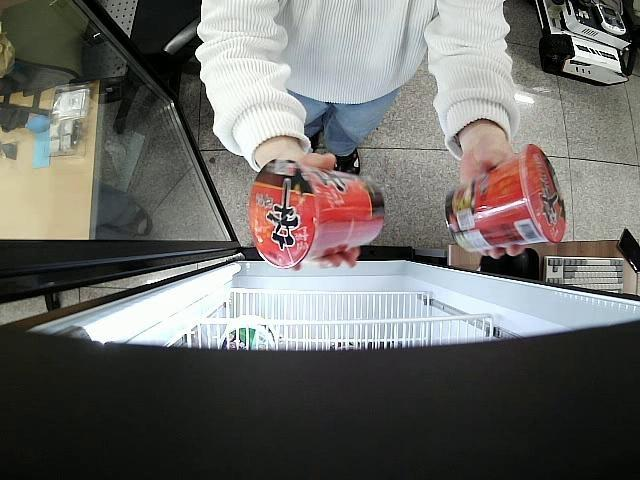02_shinRamen_S: (247, 157, 386, 269), (443, 143, 565, 254)
